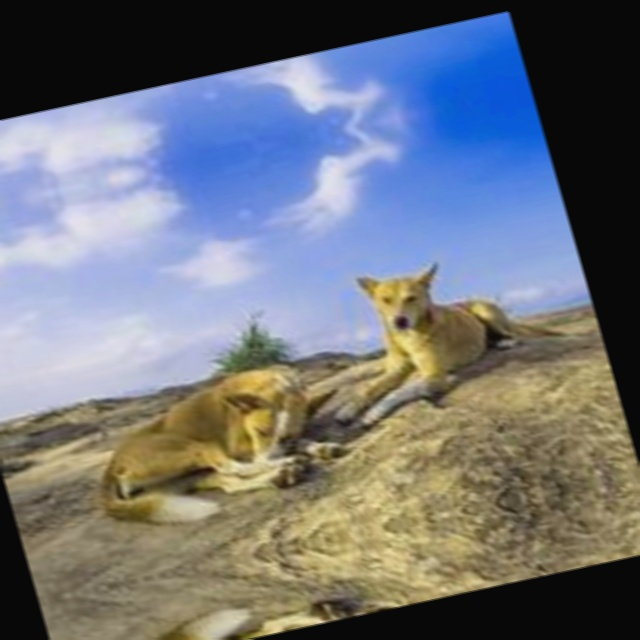dog: (351, 241, 534, 388)
